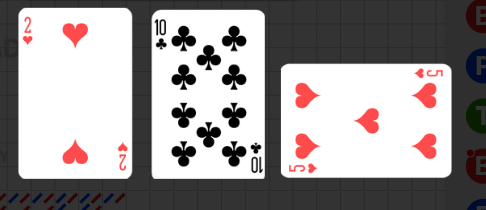10C: (153, 17, 168, 51), (248, 140, 262, 174)
5H: (412, 67, 444, 79)
